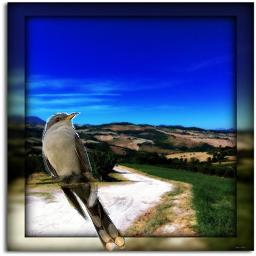Cuckoo: (42, 112, 125, 251)
